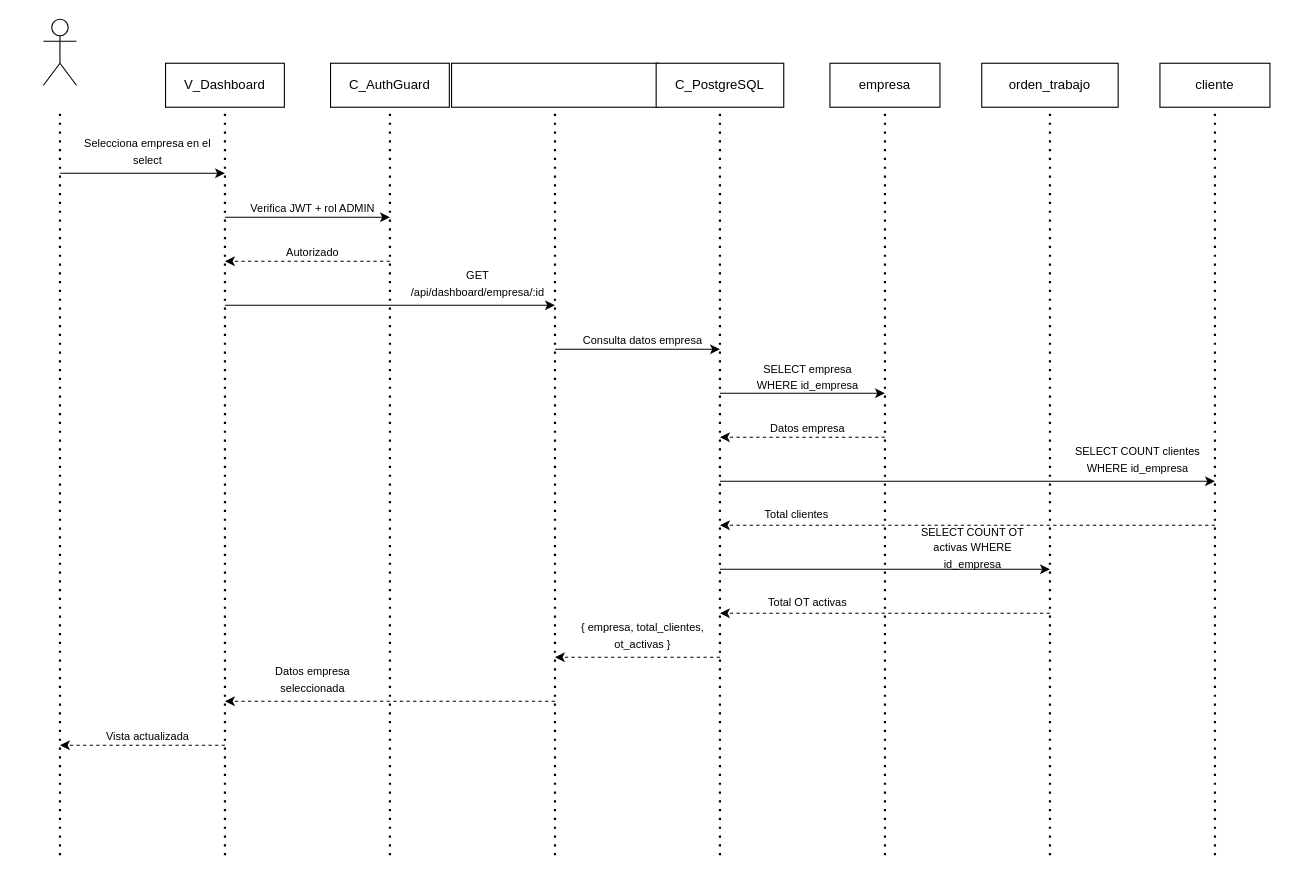
The diagram is 1289 pixels wide and 877 high, and some of its shapes have lost their labels. Here are the shapes that lost their labels. From the top down, the centre of each, then its label:
(x=59, y=51): Administrador
(x=554, y=84): C_DashboardController
